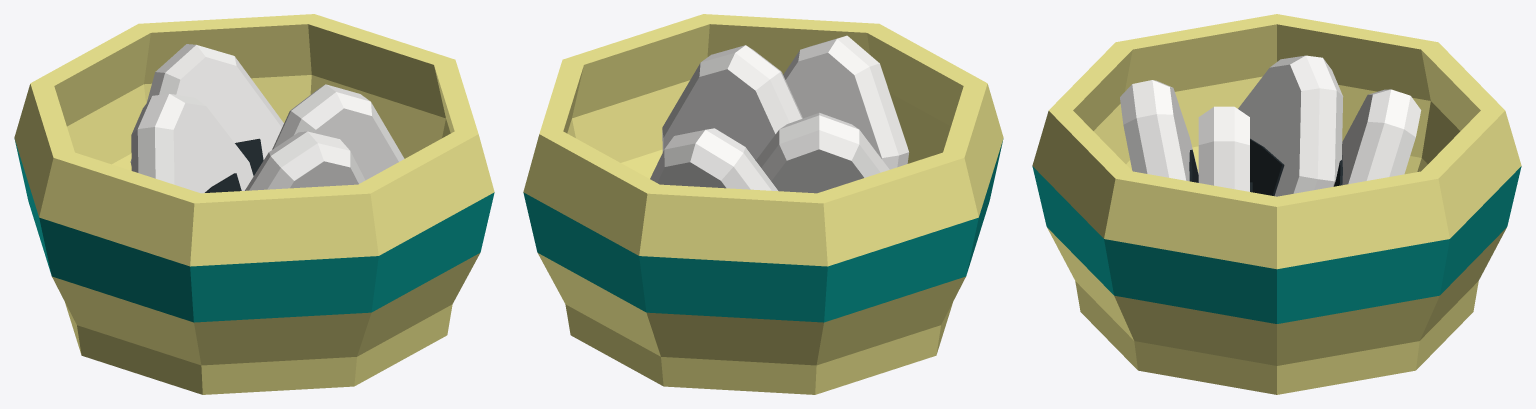
Rendered from Plate_with_rice_cake_1.fbx.
3 views of the same model, side by side, from view 1: azimuth 30°, elevation 25°; view 2: azimuth 150°, elevation 25°; view 3: azimuth 270°, elevation 25° (orthographic).
Parts seen in each view (by area): view 1: Plate_with_rice_cake_1; view 2: Plate_with_rice_cake_1; view 3: Plate_with_rice_cake_1.
Part boxes in pixels (box(x1,y1,x2,y2)): Plate_with_rice_cake_1: box(14, 14, 494, 394); Plate_with_rice_cake_1: box(523, 14, 1003, 394); Plate_with_rice_cake_1: box(1032, 14, 1521, 394).
Bounding box in the file's own units: 15.28 × 15.28 × 8.21.
